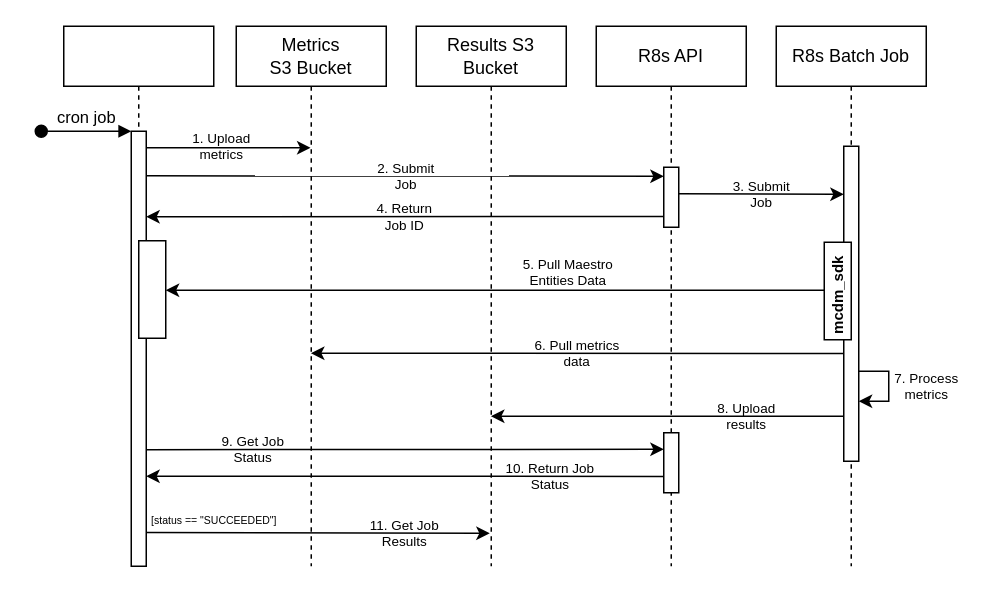
The diagram is 984 pixels wide and 593 high, and some of its shapes have lost their labels. The shapes that lost their labels are listed below. From the top down, each one's box as (x1, y1, x2, y2) in pixels, then its label:
(62, 25, 214, 566): Maestro
(137, 239, 166, 338): dynamoDB
